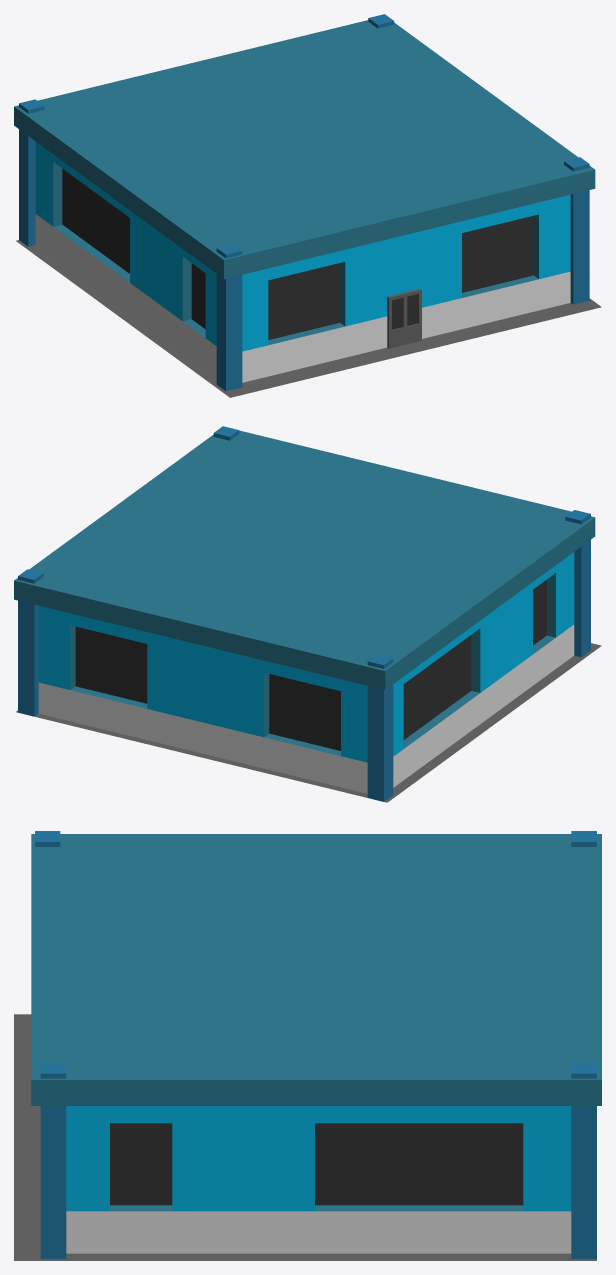
Rendered from police_station_01.fbx.
The picture shows the model from 3 angles, top to bottom: view 1: azimuth 30°, elevation 25°; view 2: azimuth 150°, elevation 25°; view 3: azimuth 270°, elevation 25°; orthographic projection. The views are drawn at different scales.
Parts seen in each view (by area): view 1: police_station_01; view 2: police_station_01; view 3: police_station_01.
Boxes of the visible parts, x1,y1,x2,y2 form: police_station_01: (14, 14, 601, 397); police_station_01: (14, 426, 601, 802); police_station_01: (14, 831, 601, 1260).
Bounding box in the file's own units: 20 × 7.03 × 20.17.
